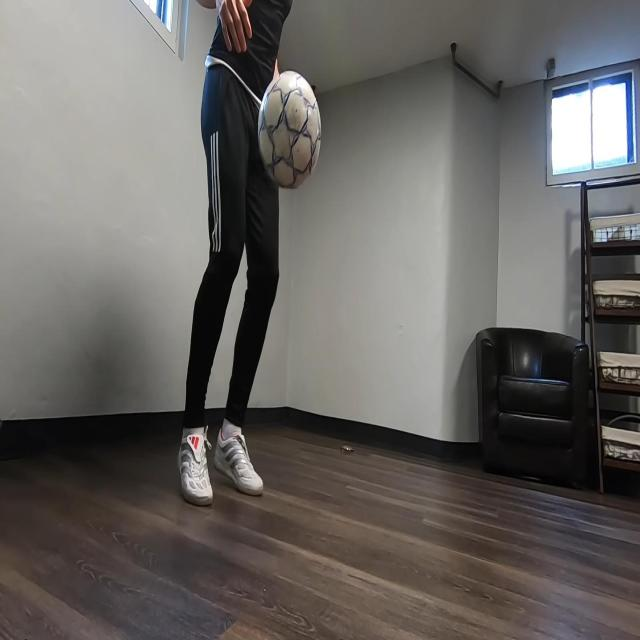Soccer Ball: (258, 71, 321, 189)
